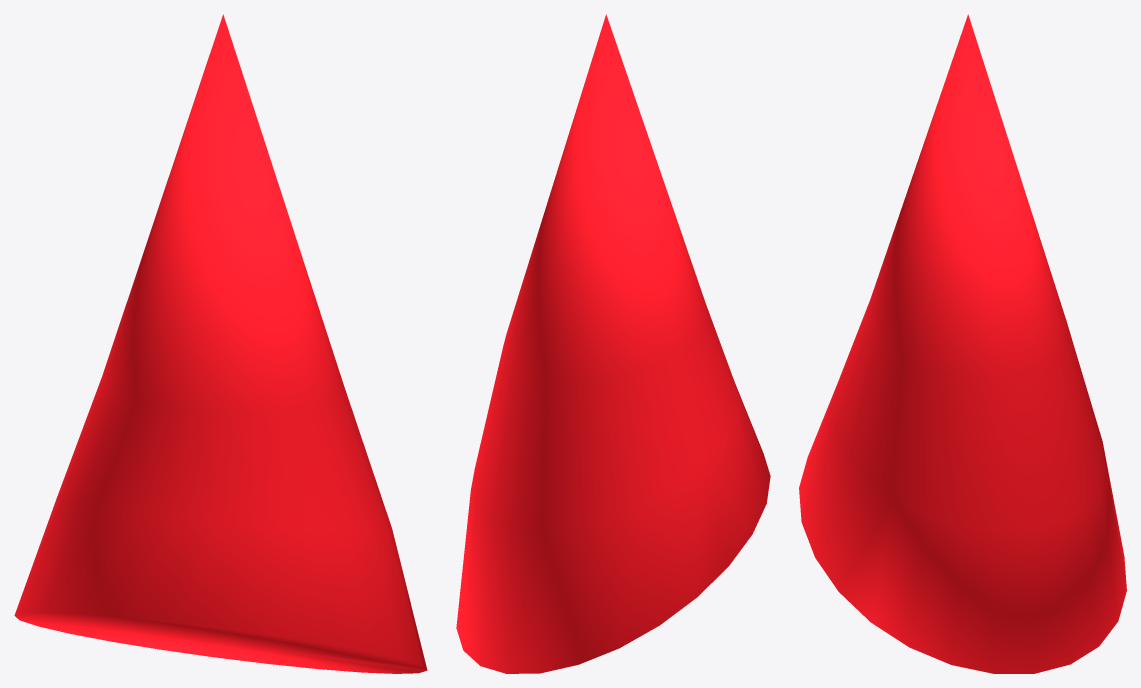
Rendered from Horn.fbx.
3 renders of one model, left to right at view 1: azimuth 30°, elevation 25°; view 2: azimuth 150°, elevation 25°; view 3: azimuth 270°, elevation 25°, orthographic. The views are drawn at different scales.
Visible parts, largest first — view 1: Devil Horns; view 2: Devil Horns; view 3: Devil Horns.
Part boxes in pixels (x1,y1,x2,y2): Devil Horns: [14, 14, 427, 673]; Devil Horns: [456, 14, 770, 673]; Devil Horns: [799, 14, 1126, 673].
Bounding box in the file's own units: 6699 × 13684 × 6699.
